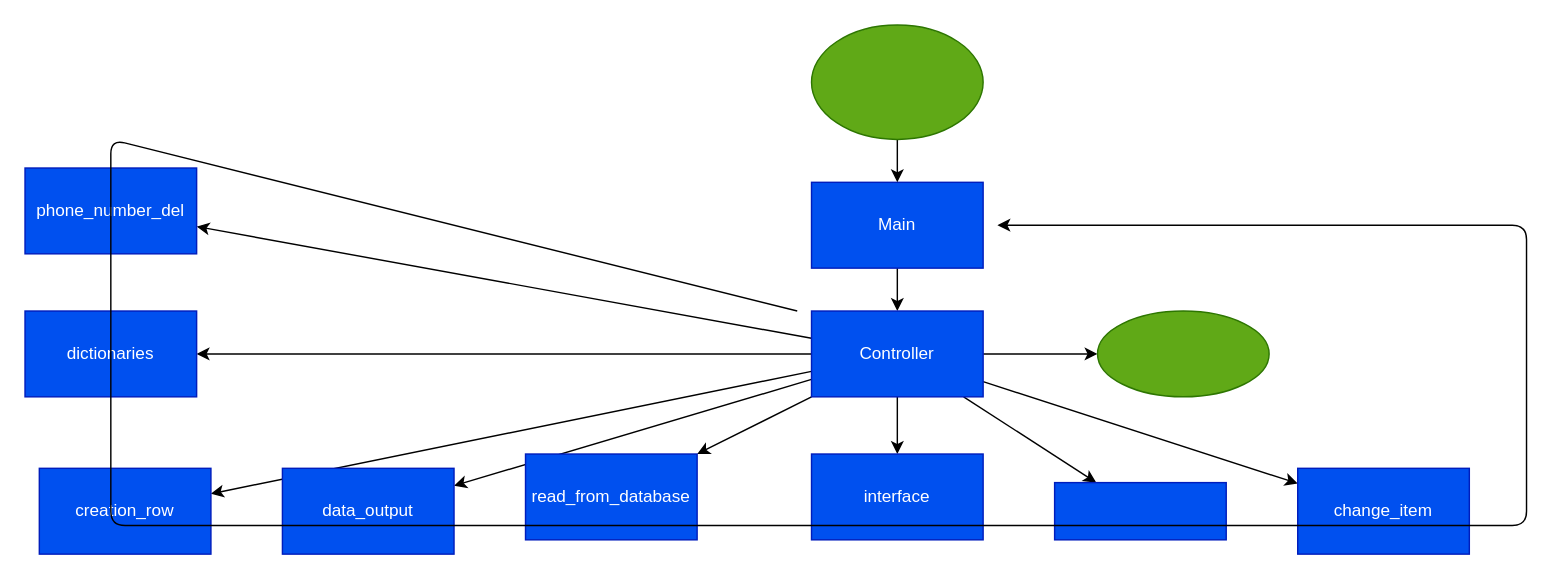
This 1563x579 diagram has some shape labels left out. The centre of each missing label's shape, as x and y in pixels:
"Finish" goes at (1182,353).
"search" goes at (1139,510).
"Start" goes at (896,81).
